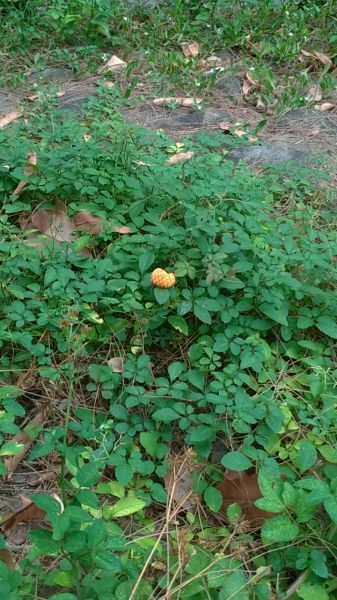eggs: (147, 264, 182, 293)
